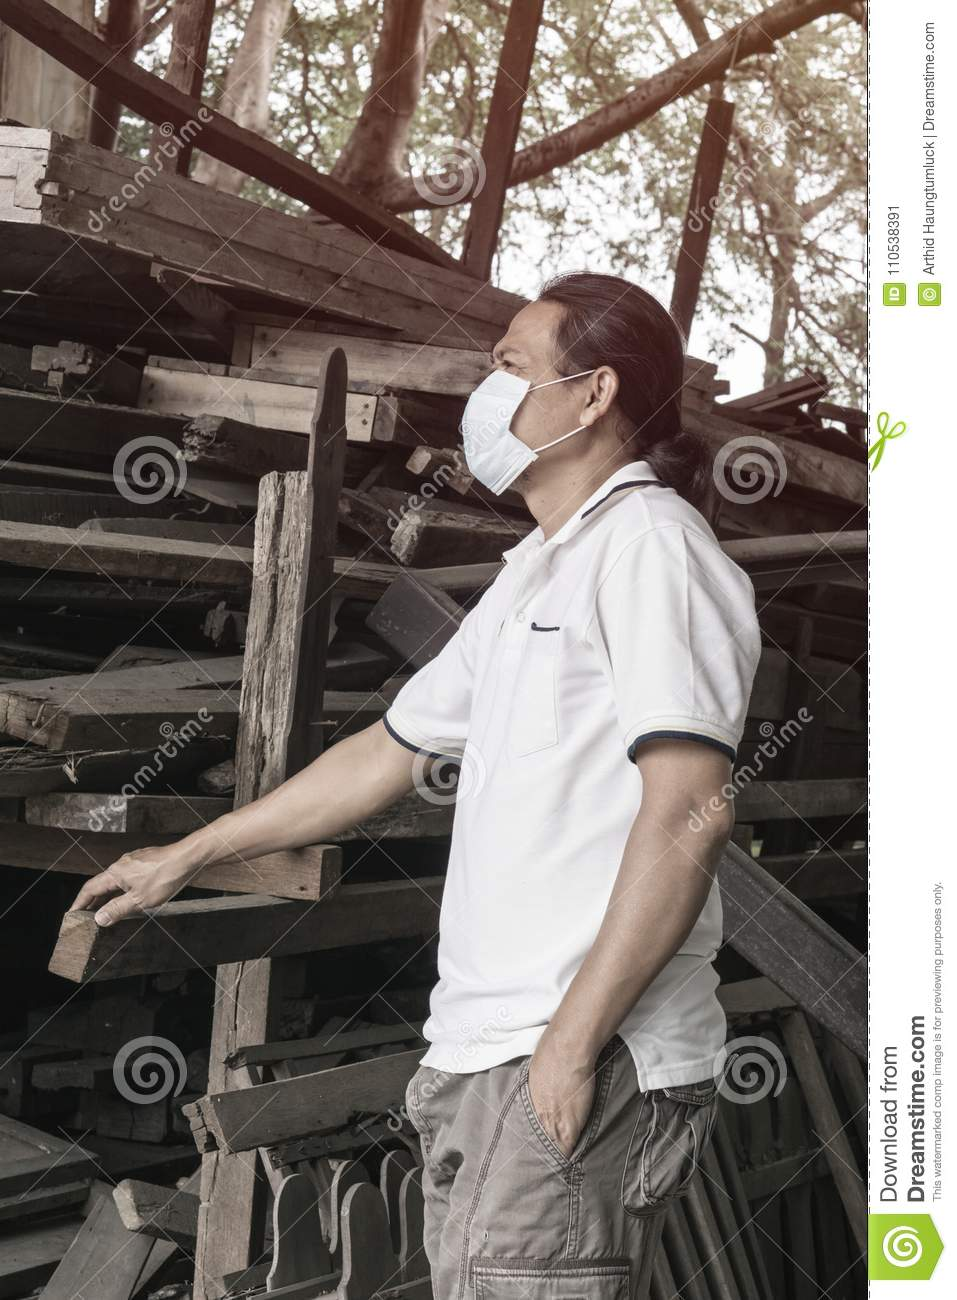mask: (457, 366, 548, 496)
